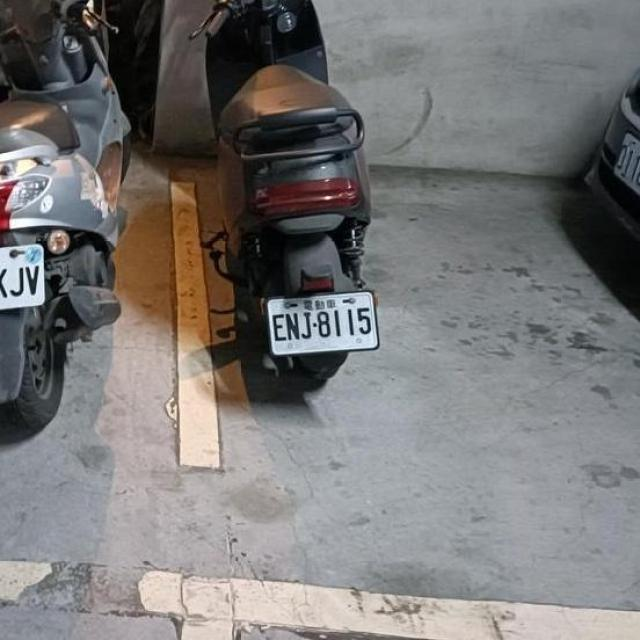W: (261, 283, 381, 360), (0, 236, 51, 318), (600, 121, 640, 211)
